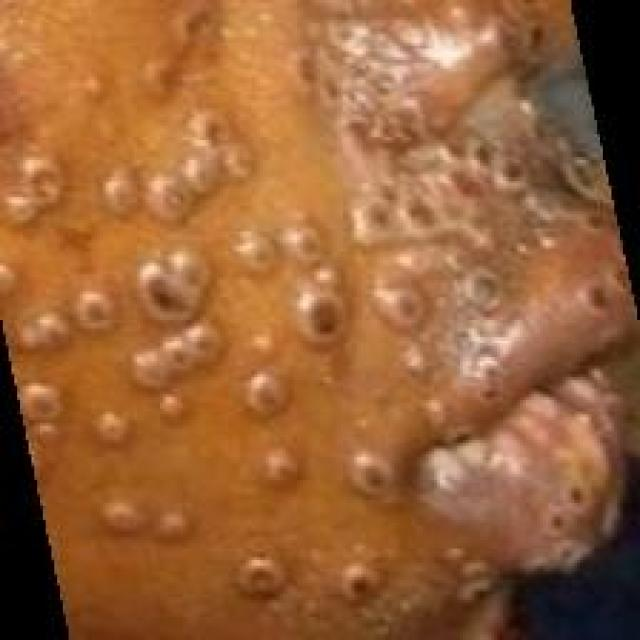monkeypox: (28, 0, 630, 640)
